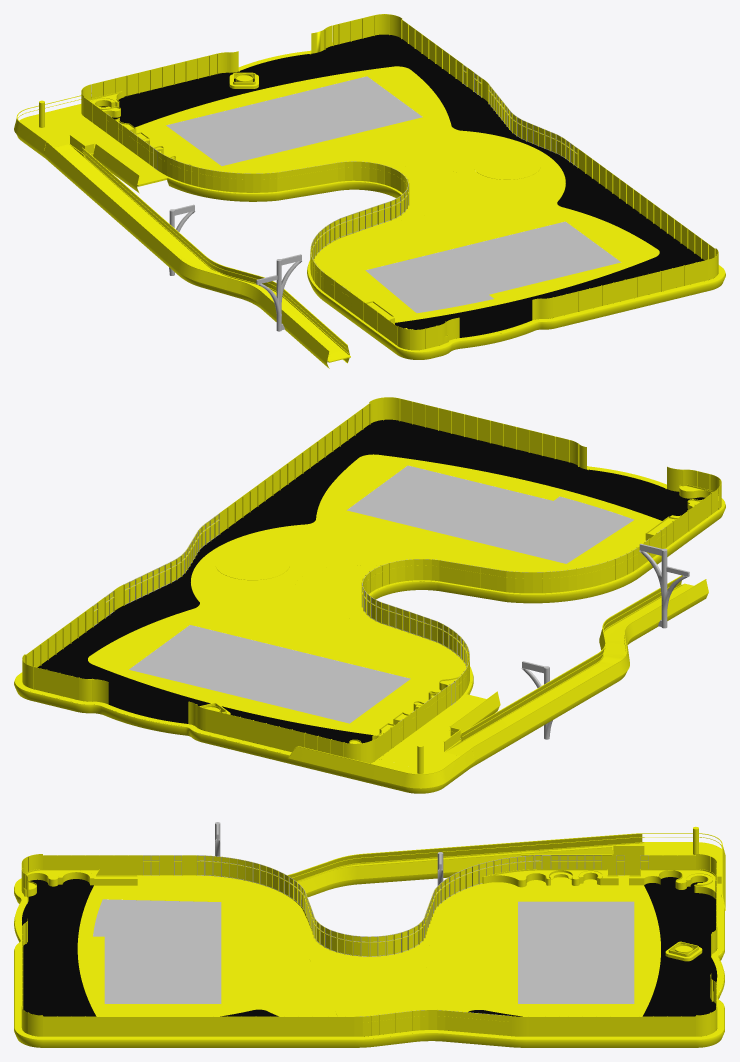
File: sm_hana_building_10f_out.glb
3 views of the same model, one above another, from view 1: azimuth 30°, elevation 25°; view 2: azimuth 150°, elevation 25°; view 3: azimuth 270°, elevation 25° (orthographic). The views are drawn at different scales.
Parts seen in each view (by area): view 1: sm_hana_building_10f_out; view 2: sm_hana_building_10f_out; view 3: sm_hana_building_10f_out.
Part boxes in pixels (x1,y1,x2,y2): sm_hana_building_10f_out: (14,14,725,368); sm_hana_building_10f_out: (14,397,725,793); sm_hana_building_10f_out: (14,822,725,1047).
Bounding box in the file's own units: 66.21 × 15.11 × 100.
Materials: 12 (10 with a texture image).
